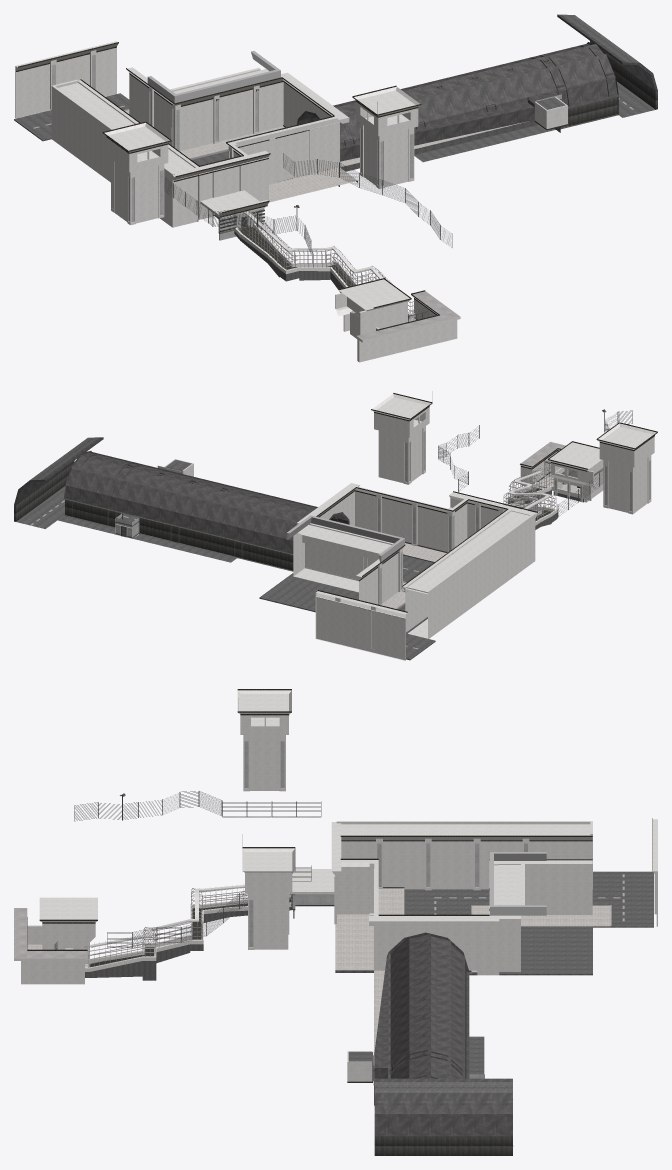
The model's file is GateBSurface.obj.
3 renders of one model, top to bottom at view 1: azimuth 30°, elevation 25°; view 2: azimuth 150°, elevation 25°; view 3: azimuth 270°, elevation 25°, orthographic. The views are drawn at different scales.
Visible parts, largest first — view 1: zrehtbne9mea; view 2: zrehtbne9mea; view 3: zrehtbne9mea.
Boxes of the visible parts, <box> form: zrehtbne9mea: <box>14,14,657,362</box>; zrehtbne9mea: <box>14,391,657,660</box>; zrehtbne9mea: <box>14,689,657,1155</box>.
Size of the model in its own units: 91.76 by 27.56 by 81.33.
